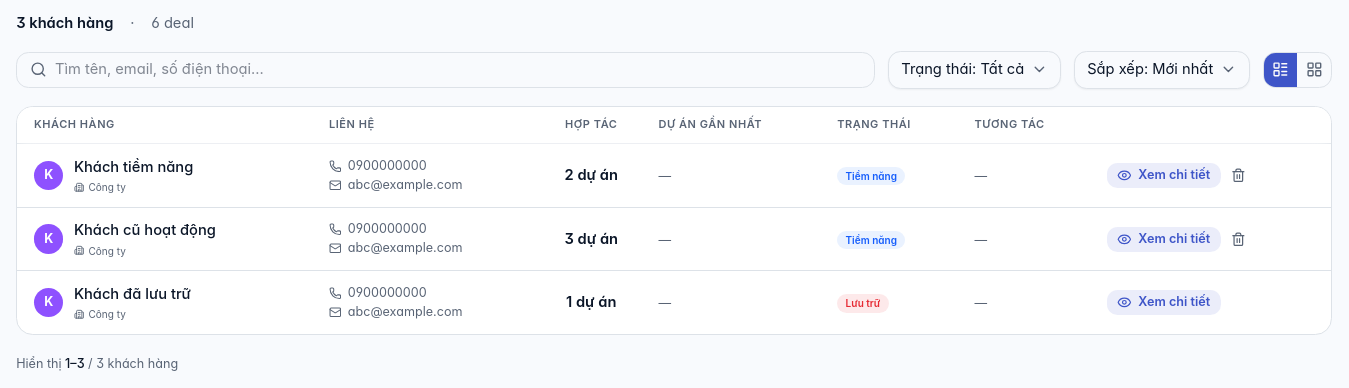
<ClientRecords /> — bộ lọc trạng thái › 'Lưu trữ' chỉ hiện khách đã lưu trữ
Click the dropdown labelled "Trạng thái: Tất cả ▼" at (974, 70), box x1=888 y1=51 x2=1061 y2=89
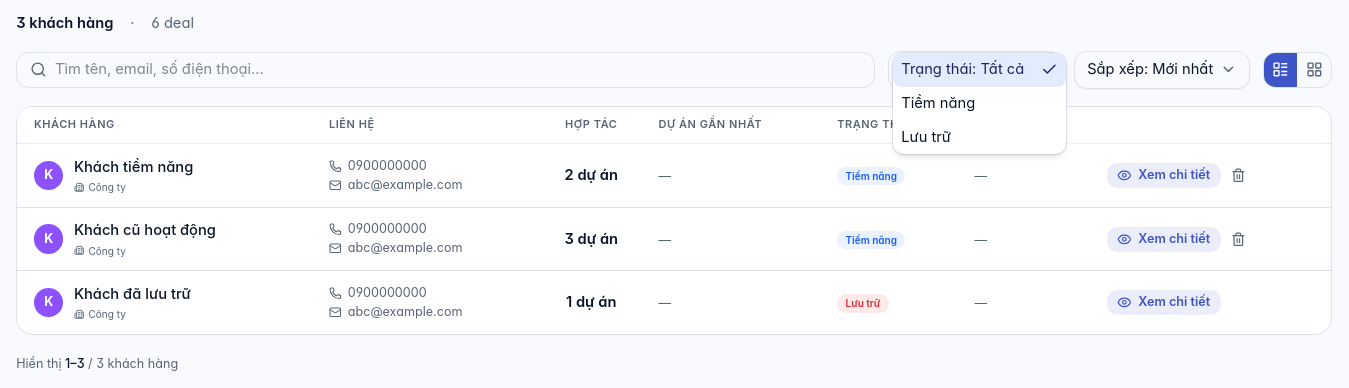
Click the option "Lưu trữ" at (926, 137), box x1=901 y1=128 x2=951 y2=146
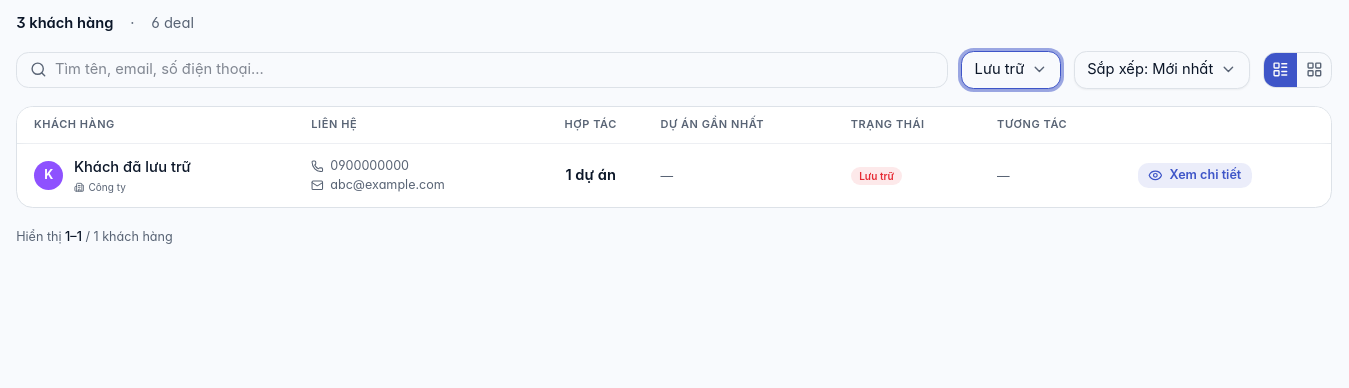
expect the text "Khách đã lưu trữ" is shown: met, box x1=74 y1=157 x2=191 y2=178
expect the text "Khách tiềm năng" is gone: met
expect the text "Khách cũ hoạt động" is gone: met
